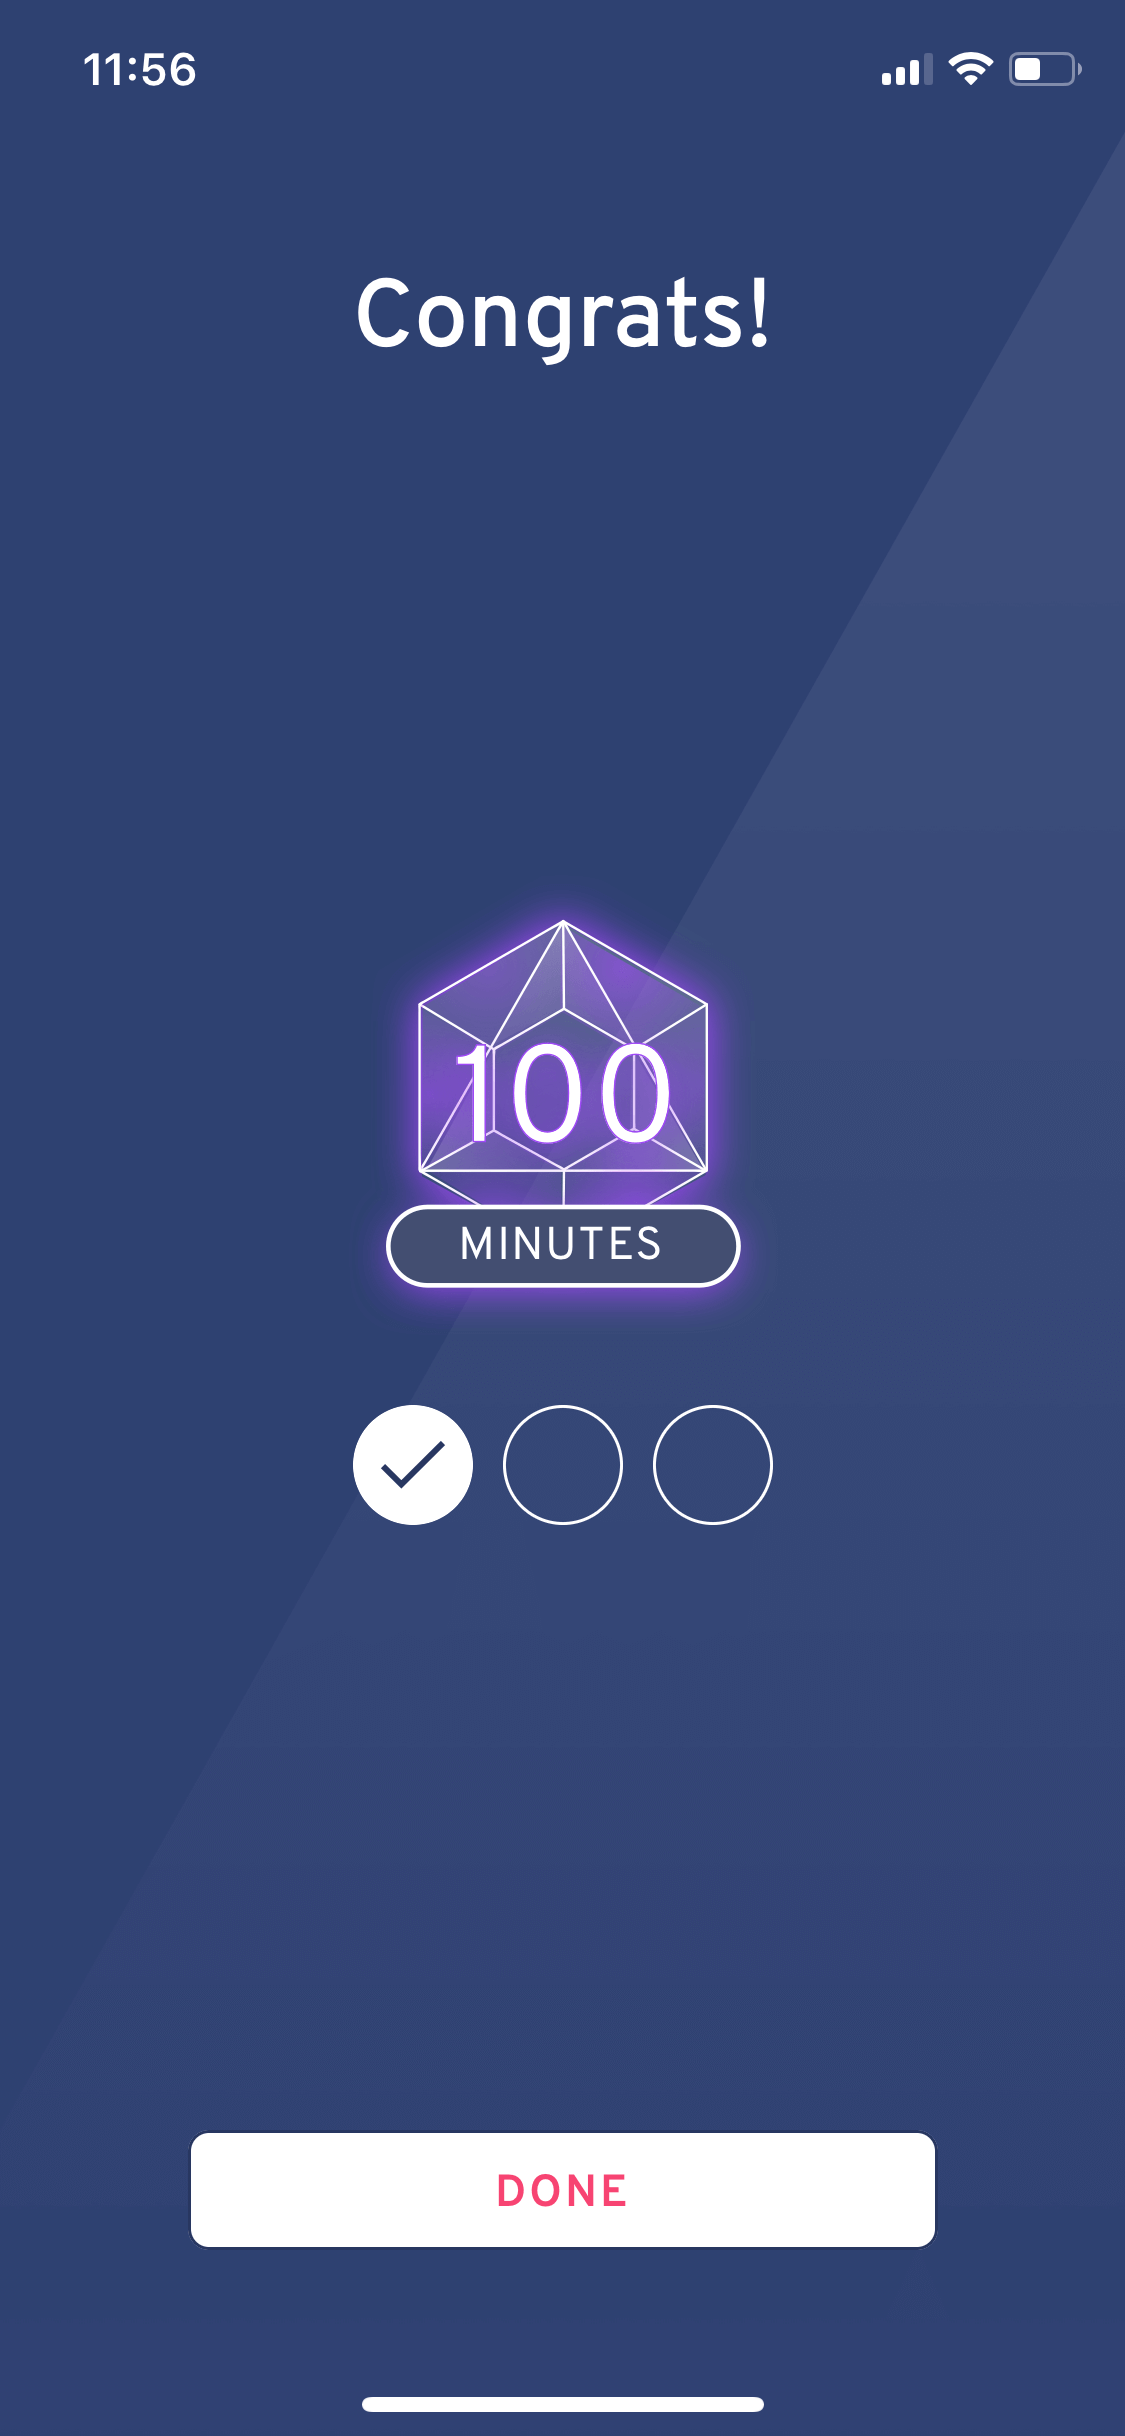Buttons: (171, 2104, 960, 2270)
